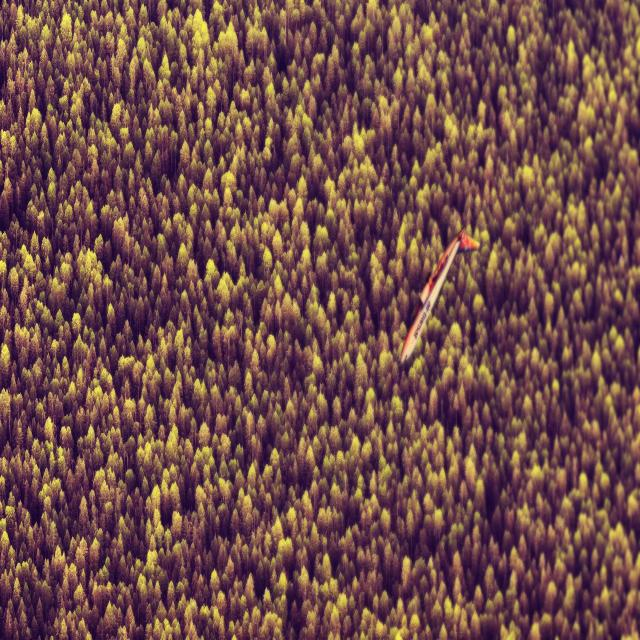airplane: (400, 224, 480, 364)
